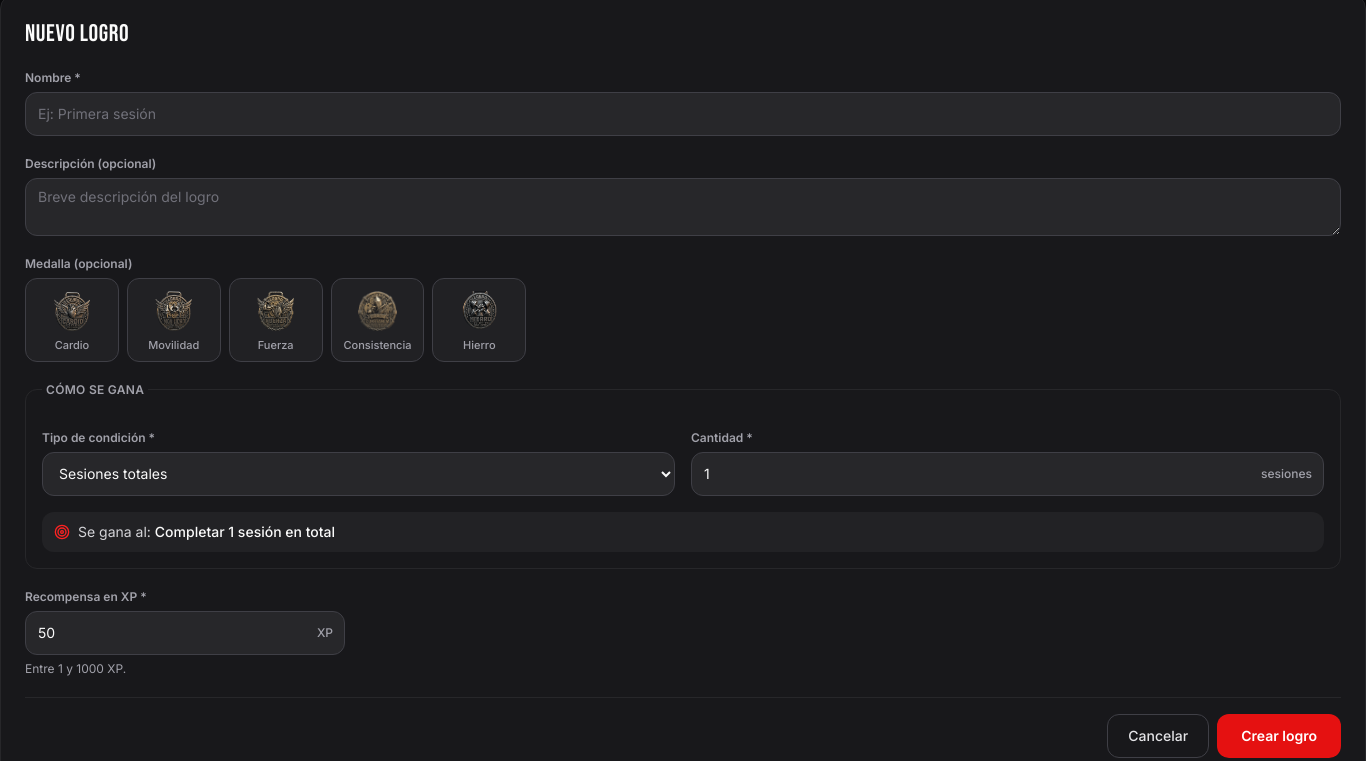
AchievementForm › validation messages › shows a friendly message when the action throws
Type "Logro" into the field labelled "Nombre *" at (683, 114), box [25,92,1341,136]
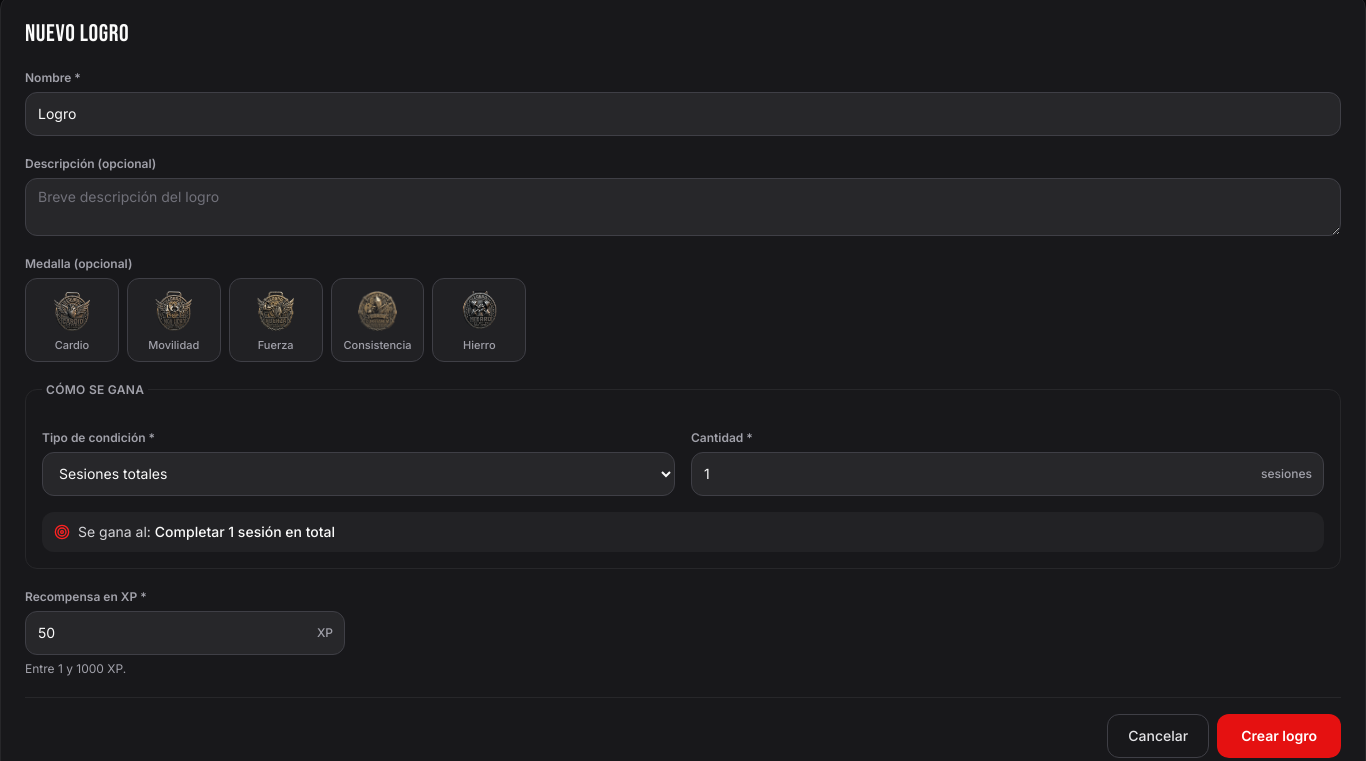
Click the button "Crear logro" at (1279, 736), box [1217,714,1341,758]
(page scrolled)
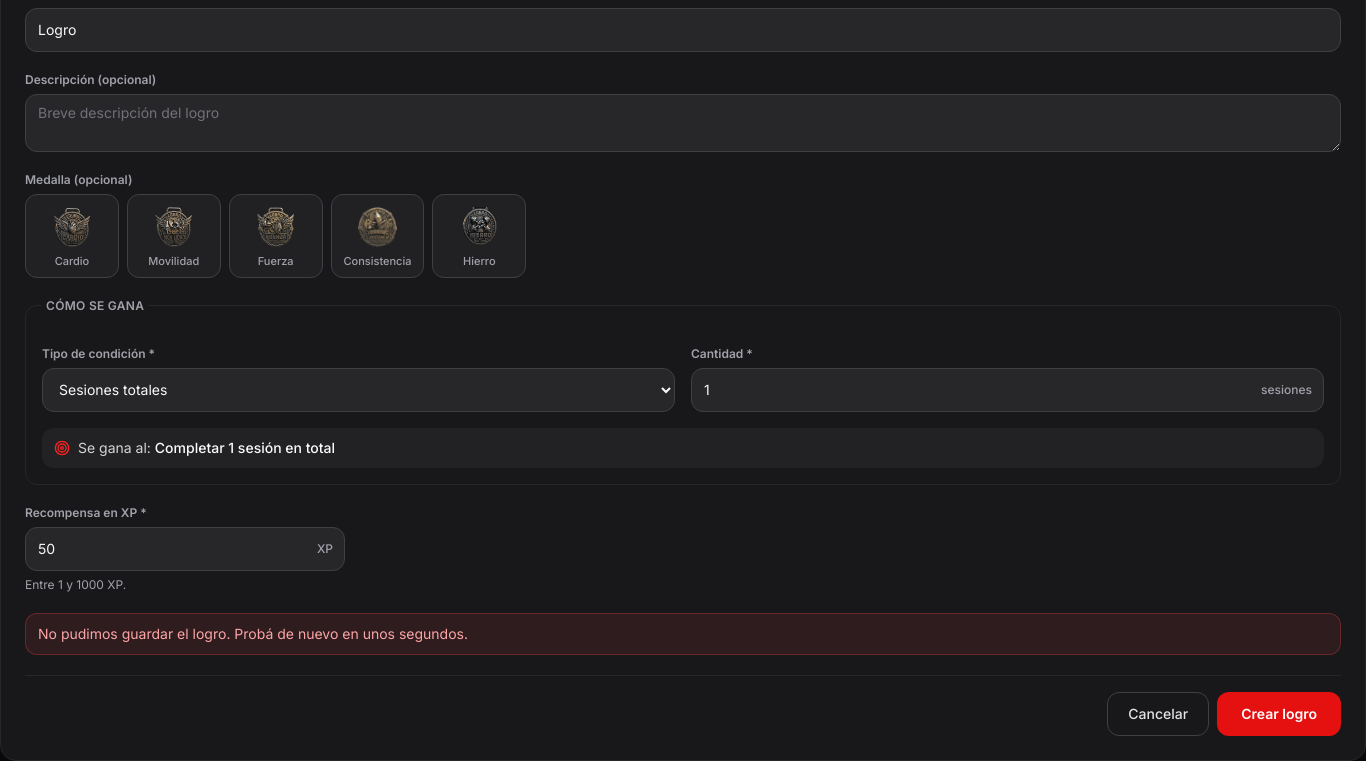
Expected: the message does not show "network down", [25,613,1341,655]
Now the message shows "No pudimos guardar el logro", box [38,625,468,642]
